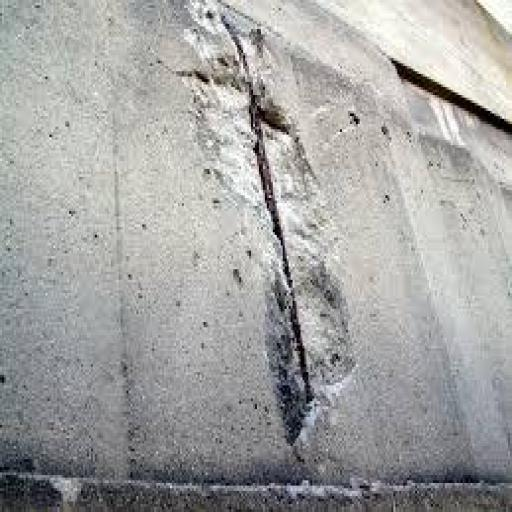spalling: (185, 22, 355, 441)
